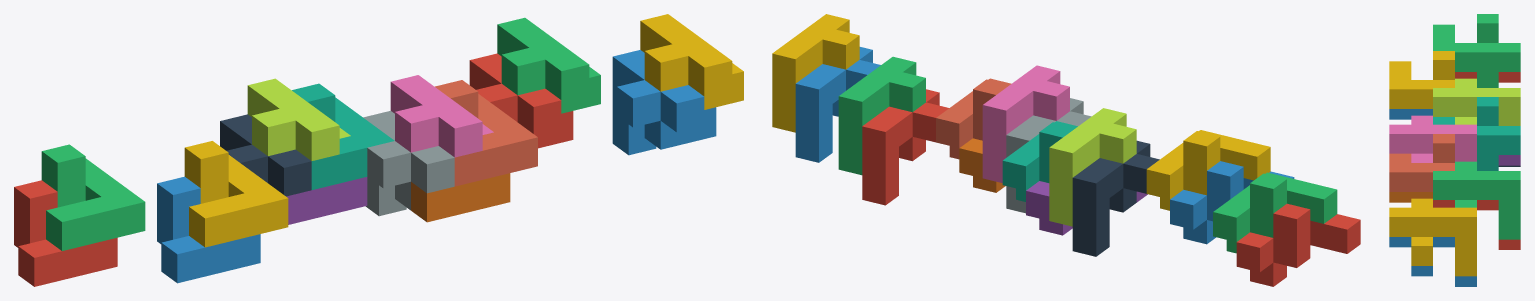
File: tiling.obj
3 renders of one model, left to right at view 1: azimuth 30°, elevation 25°; view 2: azimuth 150°, elevation 25°; view 3: azimuth 270°, elevation 25°, orthographic. The views are drawn at different scales.
Visible parts, largest first — view 1: copy_1_domain_4, copy_1_domain_3, copy_2_domain_6, copy_2_domain_7, copy_2_domain_8, copy_1_domain_2, copy_1_domain_1, copy_2_domain_3, copy_2_domain_4, copy_2_domain_2, copy_1_domain_8, copy_2_domain_5 (+4 smaller); view 2: copy_1_domain_1, copy_2_domain_1, copy_2_domain_5, copy_1_domain_3, copy_2_domain_7, copy_1_domain_4, copy_2_domain_8, copy_2_domain_3, copy_2_domain_4, copy_2_domain_6, copy_1_domain_2, copy_1_domain_7 (+4 smaller); view 3: copy_2_domain_8, copy_2_domain_7, copy_1_domain_3, copy_2_domain_4, copy_2_domain_3, copy_1_domain_4, copy_1_domain_7, copy_1_domain_8, copy_2_domain_6, copy_2_domain_5, copy_1_domain_1, copy_1_domain_2 (+2 smaller).
Boxes of the visible parts, x1,y1,x2,y2 form: copy_1_domain_4: (184, 141, 288, 247); copy_1_domain_3: (41, 144, 145, 250); copy_2_domain_6: (612, 50, 716, 155); copy_2_domain_7: (497, 17, 600, 113); copy_2_domain_8: (640, 14, 743, 109); copy_1_domain_2: (157, 176, 260, 283); copy_1_domain_1: (14, 180, 117, 286); copy_2_domain_3: (247, 78, 350, 160); copy_2_domain_4: (390, 75, 493, 157); copy_2_domain_2: (363, 110, 454, 216); copy_1_domain_8: (435, 80, 537, 186); copy_2_domain_5: (469, 53, 573, 148); copy_1_domain_1: (1236, 203, 1360, 286); copy_2_domain_1: (1072, 140, 1159, 256); copy_2_domain_5: (862, 89, 948, 205); copy_1_domain_3: (1213, 172, 1337, 253); copy_2_domain_7: (838, 56, 925, 175); copy_1_domain_4: (1146, 130, 1270, 210); copy_2_domain_8: (772, 14, 859, 132); copy_2_domain_3: (1049, 108, 1136, 226); copy_2_domain_4: (982, 65, 1069, 182); copy_2_domain_6: (795, 47, 880, 162); copy_1_domain_2: (1170, 161, 1294, 244); copy_1_domain_7: (1002, 121, 1077, 201); copy_2_domain_8: (1389, 198, 1476, 276); copy_2_domain_7: (1433, 161, 1520, 239); copy_1_domain_3: (1433, 14, 1520, 87); copy_2_domain_4: (1389, 115, 1476, 162); copy_2_domain_3: (1433, 78, 1520, 125); copy_1_domain_4: (1389, 51, 1454, 108); copy_1_domain_7: (1433, 97, 1520, 170); copy_1_domain_8: (1389, 134, 1454, 191); copy_2_domain_6: (1389, 237, 1476, 286); copy_2_domain_5: (1433, 200, 1520, 249); copy_1_domain_1: (1455, 72, 1520, 82); copy_1_domain_2: (1389, 109, 1432, 119).
Bounding box in the file's own units: 25 × 4 × 6.
